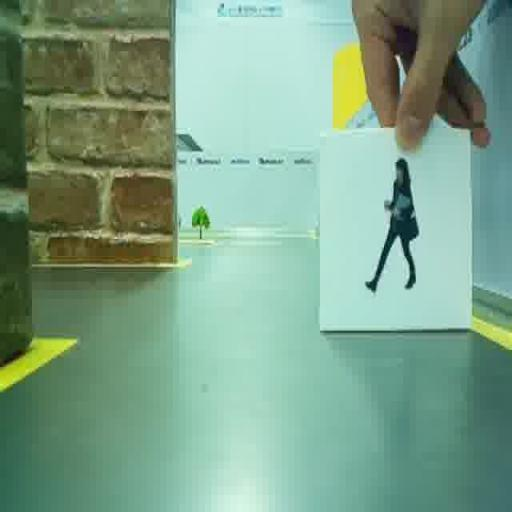human: (365, 158, 418, 291)
